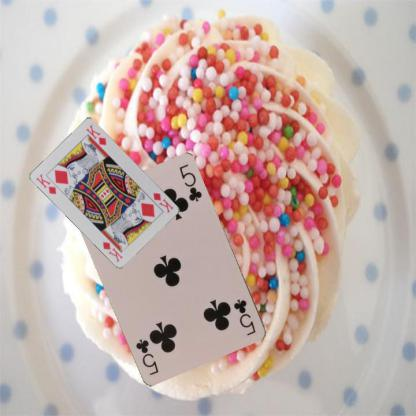5c: (231, 296, 257, 338)
Kd: (150, 190, 175, 214), (33, 171, 58, 195)
